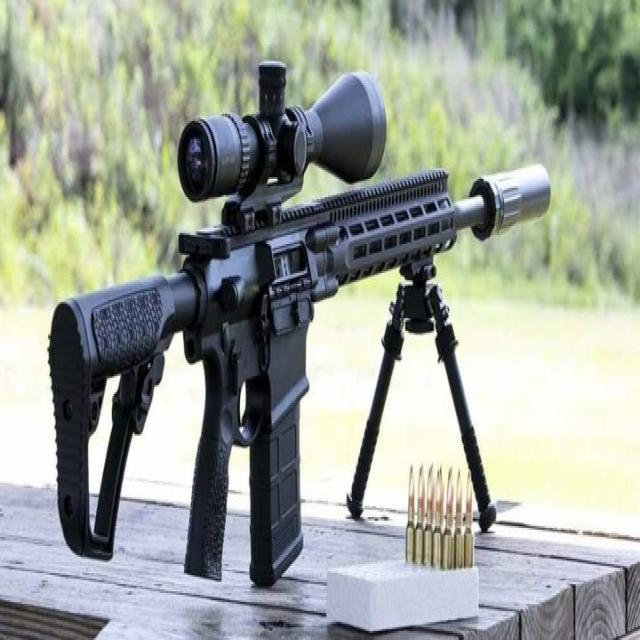Rifle: (47, 61, 552, 589)
